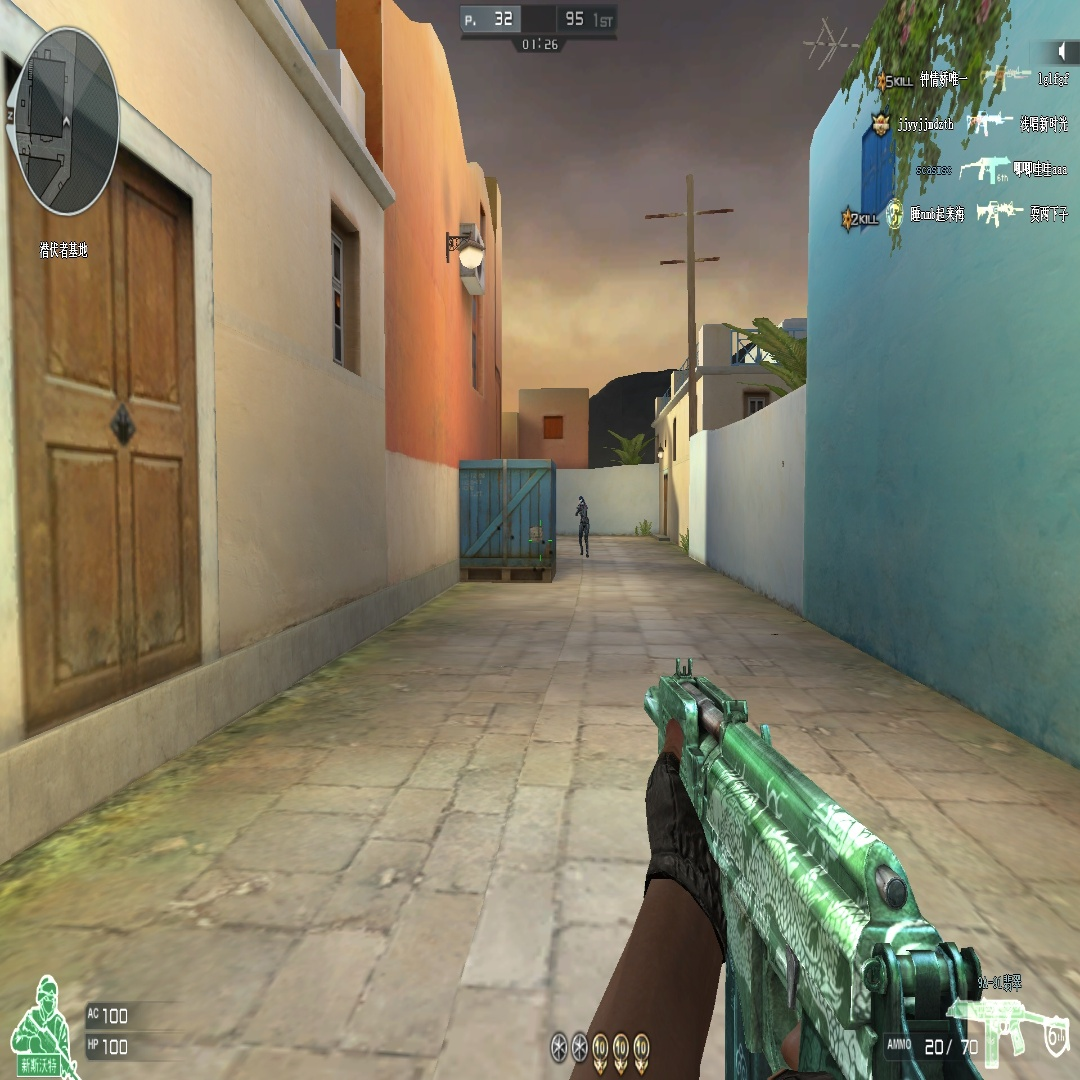head: (578, 495, 584, 506)
p: (575, 492, 590, 556)
